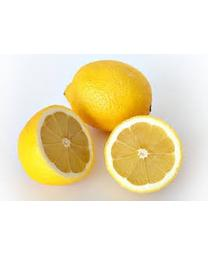lemon: (63, 59, 153, 133), (19, 104, 95, 189), (105, 115, 183, 193)
